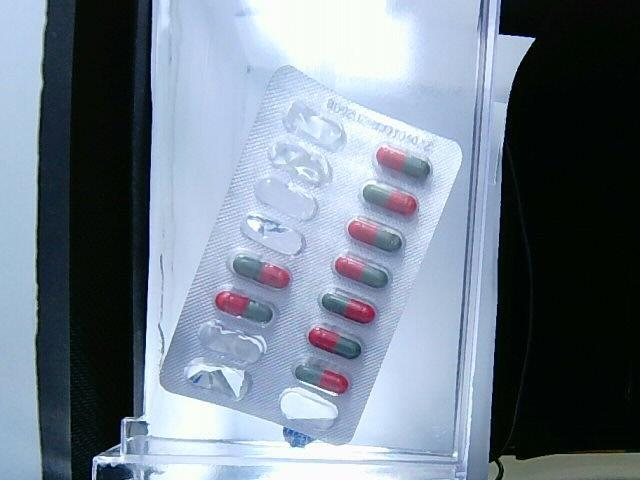Light Front: (160, 66, 464, 446)
No Pill Front: (283, 101, 346, 151), (199, 321, 266, 364), (269, 139, 331, 185), (184, 358, 250, 400), (253, 178, 316, 220), (241, 213, 304, 255), (280, 388, 338, 429)
Pill Front: (233, 255, 290, 288), (348, 218, 403, 251), (215, 291, 272, 322), (363, 181, 418, 213), (376, 145, 429, 176), (335, 256, 388, 287), (321, 293, 374, 324), (309, 328, 361, 359), (295, 365, 348, 393)
